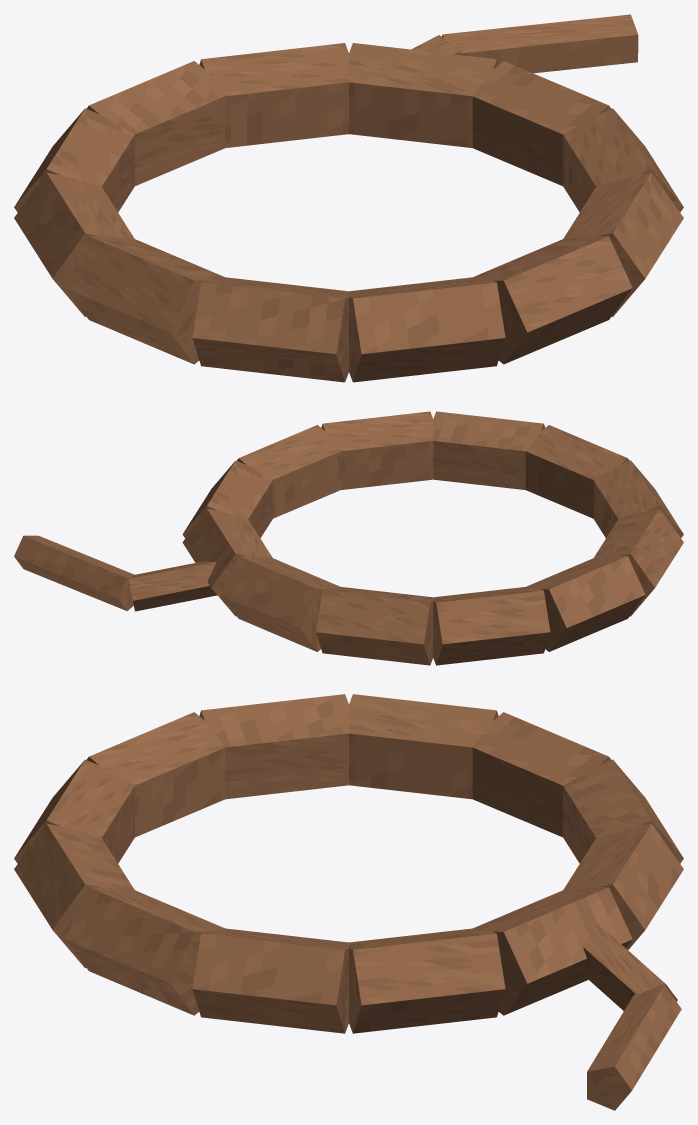
The model's file is judo_belt_brown.glb.
3 views of the same model, one above another, from view 1: azimuth 30°, elevation 25°; view 2: azimuth 150°, elevation 25°; view 3: azimuth 270°, elevation 25° (orthographic). The views are drawn at different scales.
Visible parts, largest first — view 1: block_rolled cloth sash3, block_rolled cloth sash4, block_rolled cloth sash9, block_rolled cloth sash10, block_rolled cloth sash2, block_rolled cloth sash5, block_rolled cloth sash8, block_rolled cloth sash11, block_free end 1, block_rolled cloth sash1, block_rolled cloth sash6, block_rolled cloth sash0 (+1 smaller); view 2: block_rolled cloth sash8, block_rolled cloth sash7, block_rolled cloth sash1, block_rolled cloth sash2, block_rolled cloth sash9, block_rolled cloth sash6, block_rolled cloth sash3, block_rolled cloth sash0, block_free end 1, block_rolled cloth sash5, block_rolled cloth sash10, block_rolled cloth sash4 (+2 smaller); view 3: block_rolled cloth sash0, block_rolled cloth sash11, block_rolled cloth sash5, block_rolled cloth sash6, block_rolled cloth sash1, block_rolled cloth sash10, block_rolled cloth sash4, block_rolled cloth sash7, block_rolled cloth sash2, block_rolled cloth sash9, block_free end 1, block_rolled cloth sash3 (+2 smaller).
Part boxes in pixels (x1,y1,x2,y2): block_rolled cloth sash3: (349, 277, 505, 382); block_rolled cloth sash4: (192, 277, 348, 382); block_rolled cloth sash9: (199, 43, 348, 147); block_rolled cloth sash10: (349, 43, 498, 147); block_rolled cloth sash2: (473, 236, 632, 364); block_rolled cloth sash5: (65, 236, 224, 364); block_rolled cloth sash8: (86, 61, 225, 185); block_rolled cloth sash11: (472, 61, 611, 185); block_free end 1: (442, 14, 638, 73); block_rolled cloth sash1: (563, 172, 683, 316); block_rolled cloth sash6: (14, 172, 134, 316); block_rolled cloth sash0: (563, 108, 683, 212); block_rolled cloth sash8: (316, 587, 433, 665); block_rolled cloth sash7: (433, 587, 550, 665); block_rolled cloth sash1: (321, 411, 433, 489); block_rolled cloth sash2: (433, 411, 544, 489); block_rolled cloth sash9: (221, 556, 340, 651); block_rolled cloth sash6: (526, 556, 645, 651); block_rolled cloth sash3: (525, 425, 629, 518); block_rolled cloth sash0: (237, 425, 340, 518); block_free end 1: (14, 535, 134, 610); block_rolled cloth sash5: (594, 508, 683, 616); block_rolled cloth sash10: (182, 508, 272, 616); block_rolled cloth sash4: (593, 460, 683, 537); block_rolled cloth sash0: (192, 928, 348, 1033); block_rolled cloth sash11: (349, 928, 505, 1033); block_rolled cloth sash5: (199, 694, 348, 799); block_rolled cloth sash6: (349, 694, 498, 799); block_rolled cloth sash1: (65, 887, 224, 1015); block_rolled cloth sash10: (473, 887, 632, 1015); block_rolled cloth sash4: (86, 712, 225, 837); block_rolled cloth sash7: (472, 712, 611, 837); block_rolled cloth sash2: (14, 823, 134, 968); block_rolled cloth sash9: (563, 823, 683, 949); block_free end 1: (587, 985, 681, 1110); block_rolled cloth sash3: (14, 759, 134, 863).
Size of the model in its own units: 0.1512 by 0.0177 by 0.1238.
1 material, 1 textured.
